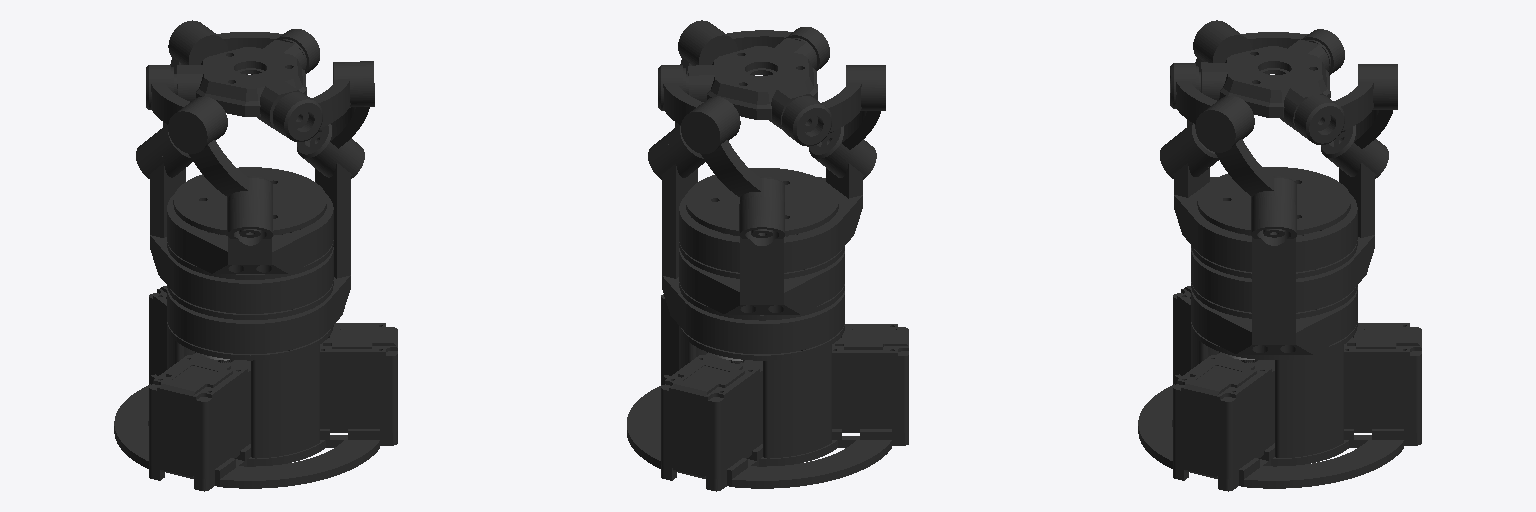
--- Render facts (derived) ---
3 views of the same robot in one strip: view 1: azimuth 30°, elevation 25°; view 2: azimuth 150°, elevation 25°; view 3: azimuth 270°, elevation 25° (orthographic).
Robot: spm_wrist — 25 links, 24 joints (10 continuous, 14 fixed); root link world; default pose: every joint at zero.
Visible links, largest first — view 1: base_link, ServoMotor1, ServoMotor2, Platform, PlatformSupportLink3, PlatformSupportLink1, Ring2, Ring1, Ring3, Top, PlatformSupportLink2, LongArm (+6 smaller); view 2: base_link, ServoMotor3, ServoMotor1, Platform, PlatformSupportLink2, PlatformSupportLink3, Ring1, Ring3, Top, Ring2, PlatformSupportLink1, MiddleArm (+6 smaller); view 3: base_link, ServoMotor2, ServoMotor3, Platform, PlatformSupportLink1, PlatformSupportLink2, LongArm, Ring3, Top, Ring1, Ring2, PlatformSupportLink3 (+6 smaller).
Boxes of the visible links, bbox=[...] form: base_link: bbox=[114, 329, 397, 491]; ServoMotor1: bbox=[149, 352, 250, 478]; ServoMotor2: bbox=[320, 323, 397, 432]; Platform: bbox=[176, 40, 306, 130]; PlatformSupportLink3: bbox=[146, 65, 272, 237]; PlatformSupportLink1: bbox=[273, 61, 374, 167]; Ring2: bbox=[150, 235, 333, 313]; Ring1: bbox=[167, 275, 350, 353]; Ring3: bbox=[167, 194, 333, 273]; Top: bbox=[173, 167, 326, 235]; PlatformSupportLink2: bbox=[156, 20, 319, 167]; LongArm: bbox=[314, 138, 364, 278]; base_link: bbox=[627, 328, 908, 491]; ServoMotor3: bbox=[661, 352, 762, 478]; ServoMotor1: bbox=[832, 324, 908, 432]; Platform: bbox=[688, 38, 817, 130]; PlatformSupportLink2: bbox=[658, 65, 784, 237]; PlatformSupportLink3: bbox=[782, 65, 885, 167]; Ring1: bbox=[662, 276, 844, 353]; Ring3: bbox=[679, 177, 862, 272]; Top: bbox=[686, 168, 838, 235]; Ring2: bbox=[679, 248, 844, 314]; PlatformSupportLink1: bbox=[668, 20, 829, 167]; MiddleArm: bbox=[739, 197, 784, 304]; base_link: bbox=[1138, 329, 1421, 491]; ServoMotor2: bbox=[1173, 352, 1274, 478]; ServoMotor3: bbox=[1344, 323, 1421, 432]; Platform: bbox=[1200, 39, 1330, 131]; PlatformSupportLink1: bbox=[1170, 63, 1296, 237]; PlatformSupportLink2: bbox=[1294, 64, 1397, 167]; LongArm: bbox=[1251, 196, 1296, 344]; Ring3: bbox=[1174, 177, 1357, 271]; Top: bbox=[1197, 167, 1350, 235]; Ring1: bbox=[1191, 287, 1357, 354]; Ring2: bbox=[1191, 235, 1374, 312]; PlatformSupportLink3: bbox=[1180, 20, 1344, 167].
Size in the robot's own frame: 0.1028 by 0.1021 by 0.1461 metres.
Meshes: 24 distinct files referenced, 24 mesh visuals loaded (24 binary STL).

The robot description file, URDF, robot "spm_wrist":
<?xml version="1.0" ?>
<!-- =================================================================================== -->
<!-- |    This document was autogenerated by xacro from spm.urdf.xacro                 | -->
<!-- |    EDITING THIS FILE BY HAND IS NOT RECOMMENDED                                 | -->
<!-- =================================================================================== -->
<robot name="spm_wrist">
  <material name="silver_default">
    <color rgba="0.700 0.700 0.700 1.000"/>
  </material>
  <material name="epx_150_air_baked_with_carbon_m2_m3_l1_3d_printers">
    <color rgba="0.24705882352941178 0.24705882352941178 0.24705882352941178 1.0"/>
  </material>
  <material name="nylon_12_with_formlabs_fuse_1_3d_printer">
    <color rgba="0.24705882352941178 0.24705882352941178 0.24705882352941178 1.0"/>
  </material>
  <material name="steel_satin">
    <color rgba="0.6274509803921569 0.6274509803921569 0.6274509803921569 1.0"/>
  </material>
  <material name="printed_polymide_pa12cf">
    <color rgba="0.24705882352941178 0.24705882352941178 0.24705882352941178 1.0"/>
  </material>
  <link name="base_link">
    <inertial>
      <origin rpy="0 0 0" xyz="1.4144943148930138e-06 0.007917232444087631 -6.354750979618071e-06"/>
      <mass value="0.046353737838188414"/>
      <inertia ixx="2.9e-05" ixy="0.0" ixz="0.0" iyy="4.2e-05" iyz="-0.0" izz="2.9e-05"/>
    </inertial>
    <visual>
      <origin rpy="0 0 0" xyz="0 0 0"/>
      <geometry>
        <mesh filename="package://spm_wrist_description/meshes/base_link.stl" scale="0.001 0.001 0.001"/>
      </geometry>
      <material name="epx_150_air_baked_with_carbon_m2_m3_l1_3d_printers"/>
    </visual>
    <collision>
      <origin rpy="0 0 0" xyz="0 0 0"/>
      <geometry>
        <mesh filename="package://spm_wrist_description/meshes/base_link.stl" scale="0.001 0.001 0.001"/>
      </geometry>
    </collision>
  </link>
  <link name="ServoMotor1">
    <inertial>
      <origin rpy="0 0 0" xyz="0.011948473139161964 0.016078734989187438 -0.018863335082905573"/>
      <mass value="0.039200496616158965"/>
      <inertia ixx="6e-06" ixy="-0.0" ixz="2e-06" iyy="9e-06" iyz="0.0" izz="9e-06"/>
    </inertial>
    <visual>
      <origin rpy="0 0 0" xyz="0.039051 -0.0015 -0.034511"/>
      <geometry>
        <mesh filename="package://spm_wrist_description/meshes/servo_motor_v2_1.stl" scale="0.001 0.001 0.001"/>
      </geometry>
      <material name="nylon_12_with_formlabs_fuse_1_3d_printer"/>
    </visual>
    <collision>
      <origin rpy="0 0 0" xyz="0.039051 -0.0015 -0.034511"/>
      <geometry>
        <mesh filename="package://spm_wrist_description/meshes/servo_motor_v2_1.stl" scale="0.001 0.001 0.001"/>
      </geometry>
    </collision>
  </link>
  <link name="ServoMotor2">
    <inertial>
      <origin rpy="0 0 0" xyz="-0.022309461241470315 0.016078734989208664 -0.0009163556903109618"/>
      <mass value="0.039200496616158965"/>
      <inertia ixx="6e-06" ixy="0.0" ixz="-2e-06" iyy="9e-06" iyz="0.0" izz="9e-06"/>
    </inertial>
    <visual>
      <origin rpy="0 0 0" xyz="-0.049412 -0.0015 -0.016564"/>
      <geometry>
        <mesh filename="package://spm_wrist_description/meshes/servo_motor_v2_2.stl" scale="0.001 0.001 0.001"/>
      </geometry>
      <material name="nylon_12_with_formlabs_fuse_1_3d_printer"/>
    </visual>
    <collision>
      <origin rpy="0 0 0" xyz="-0.049412 -0.0015 -0.016564"/>
      <geometry>
        <mesh filename="package://spm_wrist_description/meshes/servo_motor_v2_2.stl" scale="0.001 0.001 0.001"/>
      </geometry>
    </collision>
  </link>
  <link name="ServoMotor3">
    <inertial>
      <origin rpy="0 0 0" xyz="0.010361988102308841 0.0160787349892087 0.019778690773216326"/>
      <mass value="0.039200496616158965"/>
      <inertia ixx="1e-05" ixy="-0.0" ixz="-0.0" iyy="9e-06" iyz="-0.0" izz="5e-06"/>
    </inertial>
    <visual>
      <origin rpy="0 0 0" xyz="0.010362 -0.0015 0.051074"/>
      <geometry>
        <mesh filename="package://spm_wrist_description/meshes/servo_motor_v2_3.stl" scale="0.001 0.001 0.001"/>
      </geometry>
      <material name="nylon_12_with_formlabs_fuse_1_3d_printer"/>
    </visual>
    <collision>
      <origin rpy="0 0 0" xyz="0.010362 -0.0015 0.051074"/>
      <geometry>
        <mesh filename="package://spm_wrist_description/meshes/servo_motor_v2_3.stl" scale="0.001 0.001 0.001"/>
      </geometry>
    </collision>
  </link>
  <link name="AxisConnector1">
    <inertial>
      <origin rpy="0 0 0" xyz="1.6013453995114557e-08 0.0024852853726477706 2.515422694148589e-07"/>
      <mass value="0.004090743480523257"/>
      <inertia ixx="8.4649e-08" ixy="0.0" ixz="0.0" iyy="1.5336e-07" iyz="0.0" izz="8.4649e-08"/>
    </inertial>
    <visual>
      <origin rpy="0 0 0" xyz="0.015556 -0.0352 -0.008981"/>
      <geometry>
        <mesh filename="package://spm_wrist_description/meshes/AxisConnector_v3_1.stl" scale="0.001 0.001 0.001"/>
      </geometry>
      <material name="steel_satin"/>
    </visual>
    <collision>
      <origin rpy="0 0 0" xyz="0.015556 -0.0352 -0.008981"/>
      <geometry>
        <mesh filename="package://spm_wrist_description/meshes/AxisConnector_v3_1.stl" scale="0.001 0.001 0.001"/>
      </geometry>
    </collision>
  </link>
  <link name="AxisConnector2">
    <inertial>
      <origin rpy="0 0 0" xyz="-1.6013119337465742e-08 0.0024852853726689966 2.5154246256937907e-07"/>
      <mass value="0.004090743480523257"/>
      <inertia ixx="8.4649e-08" ixy="0.0" ixz="0.0" iyy="1.5336e-07" iyz="0.0" izz="8.4649e-08"/>
    </inertial>
    <visual>
      <origin rpy="0 0 0" xyz="-0.015556 -0.0352 -0.008981"/>
      <geometry>
        <mesh filename="package://spm_wrist_description/meshes/AxisConnector_v3_2.stl" scale="0.001 0.001 0.001"/>
      </geometry>
      <material name="steel_satin"/>
    </visual>
    <collision>
      <origin rpy="0 0 0" xyz="-0.015556 -0.0352 -0.008981"/>
      <geometry>
        <mesh filename="package://spm_wrist_description/meshes/AxisConnector_v3_2.stl" scale="0.001 0.001 0.001"/>
      </geometry>
    </collision>
  </link>
  <link name="AxisConnector3">
    <inertial>
      <origin rpy="0 0 0" xyz="-1.0994205545955537e-13 0.0024852853726690244 4.969156521712759e-07"/>
      <mass value="0.004090743480523257"/>
      <inertia ixx="8.4649e-08" ixy="0.0" ixz="0.0" iyy="1.5336e-07" iyz="0.0" izz="8.4649e-08"/>
    </inertial>
    <visual>
      <origin rpy="0 0 0" xyz="-0.0 -0.0352 0.017963"/>
      <geometry>
        <mesh filename="package://spm_wrist_description/meshes/AxisConnector_v3_3.stl" scale="0.001 0.001 0.001"/>
      </geometry>
      <material name="steel_satin"/>
    </visual>
    <collision>
      <origin rpy="0 0 0" xyz="-0.0 -0.0352 0.017963"/>
      <geometry>
        <mesh filename="package://spm_wrist_description/meshes/AxisConnector_v3_3.stl" scale="0.001 0.001 0.001"/>
      </geometry>
    </collision>
  </link>
  <link name="LngSpur">
    <inertial>
      <origin rpy="0 0 0" xyz="1.6013355952013142e-08 0.023811024494842743 2.515424875615402e-07"/>
      <mass value="0.002241786298874095"/>
      <inertia ixx="0.0" ixy="-0.0" ixz="-0.0" iyy="0.0" iyz="-0.0" izz="0.0"/>
    </inertial>
    <visual>
      <origin rpy="0 0 0" xyz="0.015556 -0.0382 -0.008981"/>
      <geometry>
        <mesh filename="package://spm_wrist_description/meshes/LngSpur_v2_1.stl" scale="0.001 0.001 0.001"/>
      </geometry>
      <material name="epx_150_air_baked_with_carbon_m2_m3_l1_3d_printers"/>
    </visual>
    <collision>
      <origin rpy="0 0 0" xyz="0.015556 -0.0382 -0.008981"/>
      <geometry>
        <mesh filename="package://spm_wrist_description/meshes/LngSpur_v2_1.stl" scale="0.001 0.001 0.001"/>
      </geometry>
    </collision>
  </link>
  <link name="MidSpur">
    <inertial>
      <origin rpy="0 0 0" xyz="-0.003099851187174882 0.021909865513360466 -5.61942304570795e-07"/>
      <mass value="0.0022422400558409607"/>
      <inertia ixx="0.0" ixy="-0.0" ixz="0.0" iyy="0.0" iyz="0.0" izz="0.0"/>
    </inertial>
    <visual>
      <origin rpy="0 0 0" xyz="-0.003 -0.0382 0.017963"/>
      <geometry>
        <mesh filename="package://spm_wrist_description/meshes/MidSpur_v2_1.stl" scale="0.001 0.001 0.001"/>
      </geometry>
      <material name="epx_150_air_baked_with_carbon_m2_m3_l1_3d_printers"/>
    </visual>
    <collision>
      <origin rpy="0 0 0" xyz="-0.003 -0.0382 0.017963"/>
      <geometry>
        <mesh filename="package://spm_wrist_description/meshes/MidSpur_v2_1.stl" scale="0.001 0.001 0.001"/>
      </geometry>
    </collision>
  </link>
  <link name="SrtSpur">
    <inertial>
      <origin rpy="0 0 0" xyz="-0.0031000160130173603 0.020004935604028537 2.515421796325107e-07"/>
      <mass value="0.0022417862988739273"/>
      <inertia ixx="0.0" ixy="0.0" ixz="0.0" iyy="0.0" iyz="0.0" izz="0.0"/>
    </inertial>
    <visual>
      <origin rpy="0 0 0" xyz="-0.018556 -0.0382 -0.008981"/>
      <geometry>
        <mesh filename="package://spm_wrist_description/meshes/SrtSpur_v2_1.stl" scale="0.001 0.001 0.001"/>
      </geometry>
      <material name="epx_150_air_baked_with_carbon_m2_m3_l1_3d_printers"/>
    </visual>
    <collision>
      <origin rpy="0 0 0" xyz="-0.018556 -0.0382 -0.008981"/>
      <geometry>
        <mesh filename="package://spm_wrist_description/meshes/SrtSpur_v2_1.stl" scale="0.001 0.001 0.001"/>
      </geometry>
    </collision>
  </link>
  <link name="Bottom1">
    <inertial>
      <origin rpy="0 0 0" xyz="1.289708778125881e-08 0.006279746707014873 -5.8722048078617854e-09"/>
      <mass value="0.016848685557919317"/>
      <inertia ixx="3e-06" ixy="0.0" ixz="-0.0" iyy="6e-06" iyz="-0.0" izz="3e-06"/>
    </inertial>
    <visual>
      <origin rpy="0 0 0" xyz="-0.0 -0.0385 -0.0"/>
      <geometry>
        <mesh filename="package://spm_wrist_description/meshes/Bottom_v2_1.stl" scale="0.001 0.001 0.001"/>
      </geometry>
      <material name="epx_150_air_baked_with_carbon_m2_m3_l1_3d_printers"/>
    </visual>
    <collision>
      <origin rpy="0 0 0" xyz="-0.0 -0.0385 -0.0"/>
      <geometry>
        <mesh filename="package://spm_wrist_description/meshes/Bottom_v2_1.stl" scale="0.001 0.001 0.001"/>
      </geometry>
    </collision>
  </link>
  <link name="Bottom2">
    <inertial>
      <origin rpy="0 0 0" xyz="1.289708778125881e-08 0.022279746707014866 -5.8722048078617854e-09"/>
      <mass value="0.016848685557919317"/>
      <inertia ixx="3e-06" ixy="0.0" ixz="-0.0" iyy="6e-06" iyz="-0.0" izz="3e-06"/>
    </inertial>
    <visual>
      <origin rpy="0 0 0" xyz="-0.0 -0.0385 -0.0"/>
      <geometry>
        <mesh filename="package://spm_wrist_description/meshes/Bottom_v2_2.stl" scale="0.001 0.001 0.001"/>
      </geometry>
      <material name="epx_150_air_baked_with_carbon_m2_m3_l1_3d_printers"/>
    </visual>
    <collision>
      <origin rpy="0 0 0" xyz="-0.0 -0.0385 -0.0"/>
      <geometry>
        <mesh filename="package://spm_wrist_description/meshes/Bottom_v2_2.stl" scale="0.001 0.001 0.001"/>
      </geometry>
    </collision>
  </link>
  <link name="Bottom3">
    <inertial>
      <origin rpy="0 0 0" xyz="1.4260146814520231e-08 0.038279746707015776 -6.65916595122069e-09"/>
      <mass value="0.016848685557919317"/>
      <inertia ixx="3e-06" ixy="0.0" ixz="-0.0" iyy="6e-06" iyz="-0.0" izz="3e-06"/>
    </inertial>
    <visual>
      <origin rpy="0 0 0" xyz="-0.0 -0.0385 -0.0"/>
      <geometry>
        <mesh filename="package://spm_wrist_description/meshes/Bottom_v2_3.stl" scale="0.001 0.001 0.001"/>
      </geometry>
      <material name="epx_150_air_baked_with_carbon_m2_m3_l1_3d_printers"/>
    </visual>
    <collision>
      <origin rpy="0 0 0" xyz="-0.0 -0.0385 -0.0"/>
      <geometry>
        <mesh filename="package://spm_wrist_description/meshes/Bottom_v2_3.stl" scale="0.001 0.001 0.001"/>
      </geometry>
    </collision>
  </link>
  <link name="Ring1">
    <inertial>
      <origin rpy="0 0 0" xyz="0.005201501758024685 0.007609632754506879 4.973880009166959e-06"/>
      <mass value="0.010986111735110429"/>
      <inertia ixx="4e-06" ixy="0.0" ixz="-0.0" iyy="9e-06" iyz="0.0" izz="5e-06"/>
    </inertial>
    <visual>
      <origin rpy="0 0 0" xyz="0.0 -0.0405 -0.0"/>
      <geometry>
        <mesh filename="package://spm_wrist_description/meshes/Ring_v2_1.stl" scale="0.001 0.001 0.001"/>
      </geometry>
      <material name="epx_150_air_baked_with_carbon_m2_m3_l1_3d_printers"/>
    </visual>
    <collision>
      <origin rpy="0 0 0" xyz="0.0 -0.0405 -0.0"/>
      <geometry>
        <mesh filename="package://spm_wrist_description/meshes/Ring_v2_1.stl" scale="0.001 0.001 0.001"/>
      </geometry>
    </collision>
  </link>
  <link name="Ring2">
    <inertial>
      <origin rpy="0 0 0" xyz="-0.0025964447356298537 0.007609632754506872 -0.004507117239401916"/>
      <mass value="0.010986111735110429"/>
      <inertia ixx="5e-06" ixy="-0.0" ixz="-1e-06" iyy="9e-06" iyz="-0.0" izz="4e-06"/>
    </inertial>
    <visual>
      <origin rpy="0 0 0" xyz="0.0 -0.0565 -0.0"/>
      <geometry>
        <mesh filename="package://spm_wrist_description/meshes/Ring_v2_2.stl" scale="0.001 0.001 0.001"/>
      </geometry>
      <material name="epx_150_air_baked_with_carbon_m2_m3_l1_3d_printers"/>
    </visual>
    <collision>
      <origin rpy="0 0 0" xyz="0.0 -0.0565 -0.0"/>
      <geometry>
        <mesh filename="package://spm_wrist_description/meshes/Ring_v2_2.stl" scale="0.001 0.001 0.001"/>
      </geometry>
    </collision>
  </link>
  <link name="Ring3">
    <inertial>
      <origin rpy="0 0 0" xyz="-0.0026050556593440444 0.007609632754507795 0.0045021472942029135"/>
      <mass value="0.010986111735110429"/>
      <inertia ixx="5e-06" ixy="-0.0" ixz="1e-06" iyy="9e-06" iyz="0.0" izz="4e-06"/>
    </inertial>
    <visual>
      <origin rpy="0 0 0" xyz="-0.0 -0.0725 -0.0"/>
      <geometry>
        <mesh filename="package://spm_wrist_description/meshes/Ring_v2_3.stl" scale="0.001 0.001 0.001"/>
      </geometry>
      <material name="epx_150_air_baked_with_carbon_m2_m3_l1_3d_printers"/>
    </visual>
    <collision>
      <origin rpy="0 0 0" xyz="-0.0 -0.0725 -0.0"/>
      <geometry>
        <mesh filename="package://spm_wrist_description/meshes/Ring_v2_3.stl" scale="0.001 0.001 0.001"/>
      </geometry>
    </collision>
  </link>
  <link name="LongArm">
    <inertial>
      <origin rpy="0 0 0" xyz="0.00038460246617244565 0.02537308365506035 0.00500888165590829"/>
      <mass value="0.0051004386314811665"/>
      <inertia ixx="1e-06" ixy="-0.0" ixz="0.0" iyy="0.0" iyz="0.0" izz="1e-06"/>
    </inertial>
    <visual>
      <origin rpy="0 0 0" xyz="-0.03431 -0.053 0.00499"/>
      <geometry>
        <mesh filename="package://spm_wrist_description/meshes/LongArm_v2_1.stl" scale="0.001 0.001 0.001"/>
      </geometry>
      <material name="printed_polymide_pa12cf"/>
    </visual>
    <collision>
      <origin rpy="0 0 0" xyz="-0.03431 -0.053 0.00499"/>
      <geometry>
        <mesh filename="package://spm_wrist_description/meshes/LongArm_v2_1.stl" scale="0.001 0.001 0.001"/>
      </geometry>
    </collision>
  </link>
  <link name="MiddleArm">
    <inertial>
      <origin rpy="0 0 0" xyz="0.0040539394551962205 0.01736881870394401 -0.0029924213263613428"/>
      <mass value="0.003478285860946649"/>
      <inertia ixx="0.0" ixy="0.0" ixz="0.0" iyy="0.0" iyz="0.0" izz="0.0"/>
    </inertial>
    <visual>
      <origin rpy="0 0 0" xyz="0.021476 -0.069 0.027218"/>
      <geometry>
        <mesh filename="package://spm_wrist_description/meshes/MiddleArm_v2_1.stl" scale="0.001 0.001 0.001"/>
      </geometry>
      <material name="epx_150_air_baked_with_carbon_m2_m3_l1_3d_printers"/>
    </visual>
    <collision>
      <origin rpy="0 0 0" xyz="0.021476 -0.069 0.027218"/>
      <geometry>
        <mesh filename="package://spm_wrist_description/meshes/MiddleArm_v2_1.stl" scale="0.001 0.001 0.001"/>
      </geometry>
    </collision>
  </link>
  <link name="ShortArm">
    <inertial>
      <origin rpy="0 0 0" xyz="0.003816843793053231 0.009294845203876759 0.003387634092917313"/>
      <mass value="0.001981898490704533"/>
      <inertia ixx="0.0" ixy="0.0" ixz="-0.0" iyy="0.0" iyz="-0.0" izz="0.0"/>
    </inertial>
    <visual>
      <origin rpy="0 0 0" xyz="0.021494 -0.085 -0.027208"/>
      <geometry>
        <mesh filename="package://spm_wrist_description/meshes/ShortArm_v2_1.stl" scale="0.001 0.001 0.001"/>
      </geometry>
      <material name="epx_150_air_baked_with_carbon_m2_m3_l1_3d_printers"/>
    </visual>
    <collision>
      <origin rpy="0 0 0" xyz="0.021494 -0.085 -0.027208"/>
      <geometry>
        <mesh filename="package://spm_wrist_description/meshes/ShortArm_v2_1.stl" scale="0.001 0.001 0.001"/>
      </geometry>
    </collision>
  </link>
  <link name="PlatformSupportLink1">
    <inertial>
      <origin rpy="0 0 0" xyz="-0.00818592553194598 0.02354354691894711 0.01714252319173745"/>
      <mass value="0.010151333245456888"/>
      <inertia ixx="3e-06" ixy="1e-06" ixz="1e-06" iyy="3e-06" iyz="-1e-06" izz="4e-06"/>
    </inertial>
    <visual>
      <origin rpy="0 0 0" xyz="-0.031815 -0.101598 -0.0"/>
      <geometry>
        <mesh filename="package://spm_wrist_description/meshes/PlatformSupportLink_v2_1.stl" scale="0.001 0.001 0.001"/>
      </geometry>
      <material name="epx_150_air_baked_with_carbon_m2_m3_l1_3d_printers"/>
    </visual>
    <collision>
      <origin rpy="0 0 0" xyz="-0.031815 -0.101598 -0.0"/>
      <geometry>
        <mesh filename="package://spm_wrist_description/meshes/PlatformSupportLink_v2_1.stl" scale="0.001 0.001 0.001"/>
      </geometry>
    </collision>
  </link>
  <link name="PlatformSupportLink2">
    <inertial>
      <origin rpy="0 0 0" xyz="0.019526903785241048 0.023070907887856165 -0.0012751235405861032"/>
      <mass value="0.010151333245456888"/>
      <inertia ixx="2.757e-06" ixy="-1.541e-06" ixz="-8.53e-07" iyy="3.533e-06" iyz="1.0e-08" izz="4.447e-06"/>
    </inertial>
    <visual>
      <origin rpy="0 0 0" xyz="0.015908 -0.101598 0.027553"/>
      <geometry>
        <mesh filename="package://spm_wrist_description/meshes/PlatformSupportLink_v2_2.stl" scale="0.001 0.001 0.001"/>
      </geometry>
      <material name="epx_150_air_baked_with_carbon_m2_m3_l1_3d_printers"/>
    </visual>
    <collision>
      <origin rpy="0 0 0" xyz="0.015908 -0.101598 0.027553"/>
      <geometry>
        <mesh filename="package://spm_wrist_description/meshes/PlatformSupportLink_v2_2.stl" scale="0.001 0.001 0.001"/>
      </geometry>
    </collision>
  </link>
  <link name="PlatformSupportLink3">
    <inertial>
      <origin rpy="0 0 0" xyz="-0.010893843297945977 0.022943909773968235 -0.016434793066780543"/>
      <mass value="0.010151333245456888"/>
      <inertia ixx="4.758e-06" ixy="7.7e-07" ixz="-2.99e-07" iyy="3.552e-06" iyz="1.33e-06" izz="2.427e-06"/>
    </inertial>
    <visual>
      <origin rpy="0 0 0" xyz="0.015906 -0.101598 -0.027554"/>
      <geometry>
        <mesh filename="package://spm_wrist_description/meshes/PlatformSupportLink_v2_3.stl" scale="0.001 0.001 0.001"/>
      </geometry>
      <material name="epx_150_air_baked_with_carbon_m2_m3_l1_3d_printers"/>
    </visual>
    <collision>
      <origin rpy="0 0 0" xyz="0.015906 -0.101598 -0.027554"/>
      <geometry>
        <mesh filename="package://spm_wrist_description/meshes/PlatformSupportLink_v2_3.stl" scale="0.001 0.001 0.001"/>
      </geometry>
    </collision>
  </link>
  <link name="Platform">
    <inertial>
      <origin rpy="0 0 0" xyz="-0.0007498067553170075 0.0014759244320091403 -0.0275398582616901"/>
      <mass value="0.008694089397605359"/>
      <inertia ixx="2e-06" ixy="-0.0" ixz="0.0" iyy="3e-06" iyz="-0.0" izz="2e-06"/>
    </inertial>
    <visual>
      <origin rpy="0 0 0" xyz="-0.000885 -0.134013 -0.02748"/>
      <geometry>
        <mesh filename="package://spm_wrist_description/meshes/Platform_v2_1.stl" scale="0.001 0.001 0.001"/>
      </geometry>
      <material name="epx_150_air_baked_with_carbon_m2_m3_l1_3d_printers"/>
    </visual>
    <collision>
      <origin rpy="0 0 0" xyz="-0.000885 -0.134013 -0.02748"/>
      <geometry>
        <mesh filename="package://spm_wrist_description/meshes/Platform_v2_1.stl" scale="0.001 0.001 0.001"/>
      </geometry>
    </collision>
  </link>
  <link name="Top">
    <inertial>
      <origin rpy="0 0 0" xyz="1.3631331504828307e-09 0.0010000000000000425 -0.016999999213027802"/>
      <mass value="0.004660046355404222"/>
      <inertia ixx="1e-06" ixy="-0.0" ixz="0.0" iyy="2e-06" iyz="-0.0" izz="1e-06"/>
    </inertial>
    <visual>
      <origin rpy="0 0 0" xyz="-0.0 -0.0865 -0.017"/>
      <geometry>
        <mesh filename="package://spm_wrist_description/meshes/Top_v2_1.stl" scale="0.001 0.001 0.001"/>
      </geometry>
      <material name="epx_150_air_baked_with_carbon_m2_m3_l1_3d_printers"/>
    </visual>
    <collision>
      <origin rpy="0 0 0" xyz="-0.0 -0.0865 -0.017"/>
      <geometry>
        <mesh filename="package://spm_wrist_description/meshes/Top_v2_1.stl" scale="0.001 0.001 0.001"/>
      </geometry>
    </collision>
  </link>
  <joint name="Rigid1" type="fixed">
    <origin rpy="0 0 0" xyz="-0.039051 0.0015 0.034511"/>
    <parent link="base_link"/>
    <child link="ServoMotor1"/>
  </joint>
  <joint name="Rigid2" type="fixed">
    <origin rpy="0 0 0" xyz="0.049412 0.0015 0.016564"/>
    <parent link="base_link"/>
    <child link="ServoMotor2"/>
  </joint>
  <joint name="Rigid3" type="fixed">
    <origin rpy="0 0 0" xyz="-0.010362 0.0015 -0.051074"/>
    <parent link="base_link"/>
    <child link="ServoMotor3"/>
  </joint>
  <joint name="LngSpur_Joint" type="continuous">
    <origin rpy="0 0 0" xyz="0.023495 0.0337 -0.02553"/>
    <parent link="ServoMotor1"/>
    <child link="AxisConnector1"/>
    <axis xyz="-0.0 -1.0 -0.0"/>
  </joint>
  <joint name="SrtSpur_Joint" type="continuous">
    <origin rpy="0 0 0" xyz="-0.033856 0.0337 -0.007583"/>
    <parent link="ServoMotor2"/>
    <child link="AxisConnector2"/>
    <axis xyz="-0.0 1.0 0.0"/>
  </joint>
  <joint name="MidSpur_Joint" type="continuous">
    <origin rpy="0 0 0" xyz="0.010362 0.0337 0.033111"/>
    <parent link="ServoMotor3"/>
    <child link="AxisConnector3"/>
    <axis xyz="0.0 1.0 0.0"/>
  </joint>
  <joint name="Rigid7" type="fixed">
    <origin rpy="0 0 0" xyz="0.0 0.003 0.0"/>
    <parent link="AxisConnector1"/>
    <child link="LngSpur"/>
  </joint>
  <joint name="Rigid8" type="fixed">
    <origin rpy="0 0 0" xyz="0.003 0.003 0.0"/>
    <parent link="AxisConnector3"/>
    <child link="MidSpur"/>
  </joint>
  <joint name="Rigid9" type="fixed">
    <origin rpy="0 0 0" xyz="0.003 0.003 0.0"/>
    <parent link="AxisConnector2"/>
    <child link="SrtSpur"/>
  </joint>
  <joint name="Rigid10" type="fixed">
    <origin rpy="0 0 0" xyz="0.0 0.0385 0.0"/>
    <parent link="base_link"/>
    <child link="Bottom1"/>
  </joint>
  <joint name="Rigid11" type="fixed">
    <origin rpy="0 0 0" xyz="0.0 0.0385 0.0"/>
    <parent link="base_link"/>
    <child link="Bottom2"/>
  </joint>
  <joint name="Rigid12" type="fixed">
    <origin rpy="0 0 0" xyz="0.0 0.0385 0.0"/>
    <parent link="base_link"/>
    <child link="Bottom3"/>
  </joint>
  <joint name="Revolute13" type="continuous">
    <origin rpy="0 0 0" xyz="-0.0 0.002 0.0"/>
    <parent link="Bottom1"/>
    <child link="Ring1"/>
    <axis xyz="-0.0 1.0 -0.0"/>
    <mimic joint="LngSpur_Joint" multiplier="-0.4"/>
  </joint>
  <joint name="Revolute14" type="continuous">
    <origin rpy="0 0 0" xyz="-0.0 0.018 0.0"/>
    <parent link="Bottom2"/>
    <child link="Ring2"/>
    <axis xyz="0.0 1.0 0.0"/>
    <mimic joint="MidSpur_Joint" multiplier="-0.4"/>
  </joint>
  <joint name="Revolute15" type="continuous">
    <origin rpy="0 0 0" xyz="0.0 0.034 0.0"/>
    <parent link="Bottom3"/>
    <child link="Ring3"/>
    <axis xyz="0.0 1.0 0.0"/>
    <mimic joint="SrtSpur_Joint" multiplier="-0.4"/>
  </joint>
  <joint name="Rigid16" type="fixed">
    <origin rpy="0 0 0" xyz="0.03431 0.0125 -0.00499"/>
    <parent link="Ring1"/>
    <child link="LongArm"/>
  </joint>
  <joint name="Rigid17" type="fixed">
    <origin rpy="0 0 0" xyz="-0.021476 0.0125 -0.027218"/>
    <parent link="Ring2"/>
    <child link="MiddleArm"/>
  </joint>
  <joint name="Rigid18" type="fixed">
    <origin rpy="0 0 0" xyz="-0.021494 0.0125 0.027208"/>
    <parent link="Ring3"/>
    <child link="ShortArm"/>
  </joint>
  <joint name="PlatformSupportLink1_Joint" type="continuous">
    <origin rpy="0 0 0" xyz="-0.002495 0.048598 0.00499"/>
    <parent link="LongArm"/>
    <child link="PlatformSupportLink1"/>
    <axis xyz="-0.707107 0.707107 -0.0"/>
  </joint>
  <joint name="PlatformSupportLink2_Joint" type="continuous">
    <origin rpy="0 0 0" xyz="0.005568 0.032598 -0.000335"/>
    <parent link="MiddleArm"/>
    <child link="PlatformSupportLink2"/>
    <axis xyz="0.353553 0.707107 0.612372"/>
  </joint>
  <joint name="PlatformSupportLink3_Joint" type="continuous">
    <origin rpy="0 0 0" xyz="0.005588 0.016598 0.000346"/>
    <parent link="ShortArm"/>
    <child link="PlatformSupportLink3"/>
    <axis xyz="-0.353553 -0.707107 0.612372"/>
  </joint>
  <joint name="Platform_Joint1" type="continuous">
    <origin rpy="0 0 0" xyz="-0.03093 0.032415 0.02748"/>
    <parent link="PlatformSupportLink1"/>
    <child link="Platform"/>
    <axis xyz="-0.027239 -0.027239 -0.999258"/>
  </joint>
  <joint name="Rigid23" type="fixed">
    <origin rpy="0 0 0" xyz="0.0 0.048 0.017"/>
    <parent link="Bottom3"/>
    <child link="Top"/>
  </joint>
  <gazebo>
    <joint name="Platform_Joint2" type="revolute">
      <pose relative_to="PlatformSupportLink2">0.03879 0.03167 0.01419 0 -1.0471975500000001 0</pose>
      <parent>Platform</parent>
      <child>PlatformSupportLink2</child>
      <axis>
        <xyz> 0 0 1</xyz>
      </axis>
      <limit>
        <lower>-3.14159265</lower>
        <upper>3.14159265</upper>
        <effort>100.0</effort>
        <velocity>10.0</velocity>
      </limit>
      <dynamics>
        <damping>10.0</damping>
        <friction>1.0</friction>
      </dynamics>
    </joint>
    <joint name="Platform_Joint3" type="revolute">
      <pose relative_to="PlatformSupportLink3">-0.007013 0.03142 -0.04085 0 1.0471975500000001 0</pose>
      <parent>Platform</parent>
      <child>PlatformSupportLink3</child>
      <axis>
        <xyz> 0 0 1</xyz>
      </axis>
      <limit>
        <lower>-3.14159265</lower>
        <upper>3.14159265</upper>
        <effort>100.0</effort>
        <velocity>10.0</velocity>
      </limit>
      <dynamics>
        <damping>10.0</damping>
        <friction>1.0</friction>
      </dynamics>
    </joint>
  </gazebo>
  <link name="world"/>
  <joint name="world_joint" type="fixed">
    <parent link="world"/>
    <child link="base_link"/>
    <origin rpy="1.570796325 0.0 0.0" xyz="0.0 0.0 0.20"/>
  </joint>
</robot>
